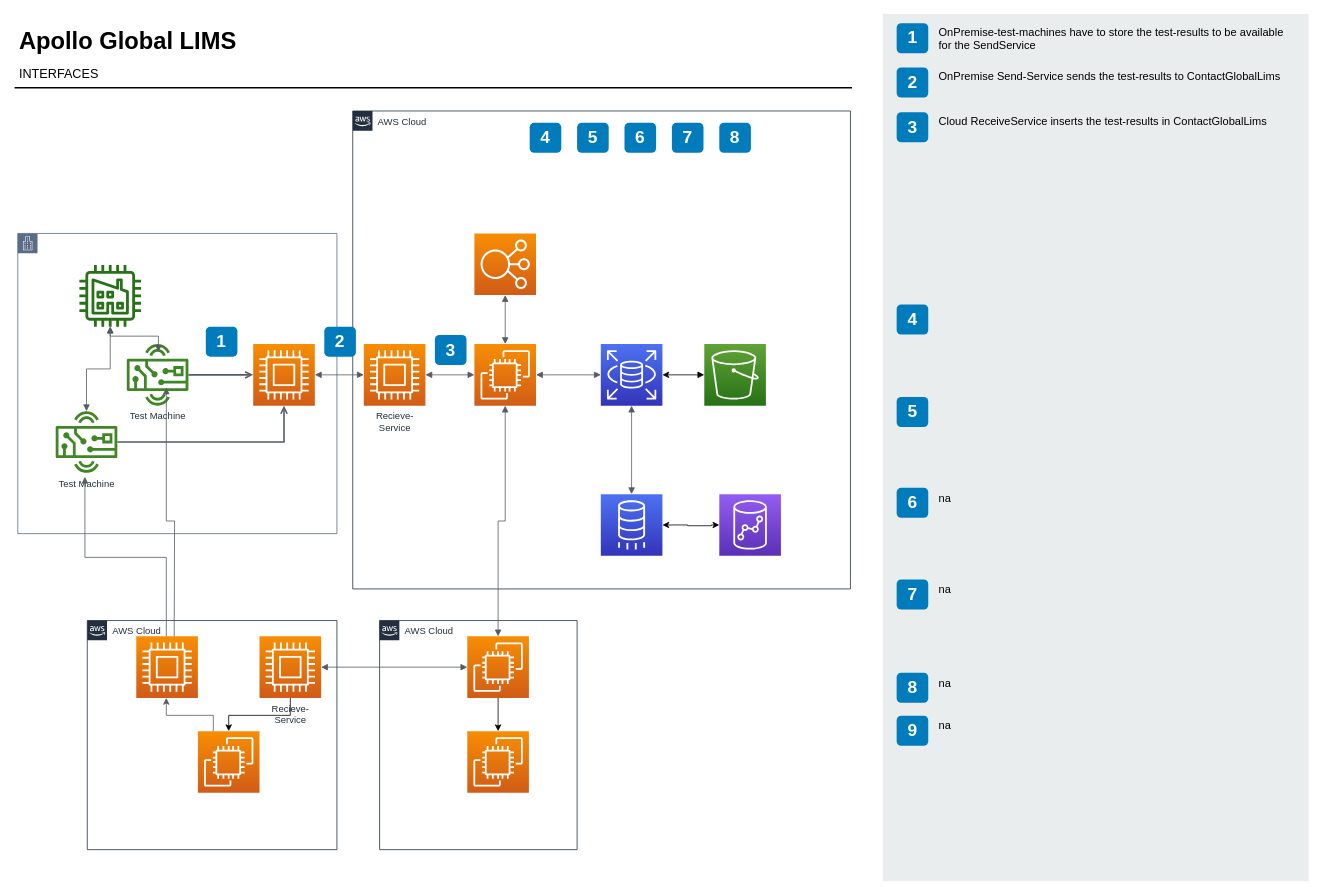
The diagram is 1322 pixels wide and 894 high, and some of its shapes have lost their labels. Here are the shapes that lost their labels. From the top down, the box of each, then its label:
(474, 233, 536, 295): Load Balancer
(79, 265, 141, 326): Factory
(17, 233, 337, 534): Corporate data center
(252, 343, 315, 406): Send- Service
(474, 343, 536, 406): CONTACT-LIMS
(600, 343, 662, 406): Oracle SQL-DB
(703, 343, 766, 406): Amazon S3
(719, 493, 781, 556): redshift-LIMS
(135, 636, 198, 698): Send-- Service
(466, 636, 529, 698): SAP-PO
(197, 730, 260, 793): PIBS
(466, 730, 529, 793): SAP
